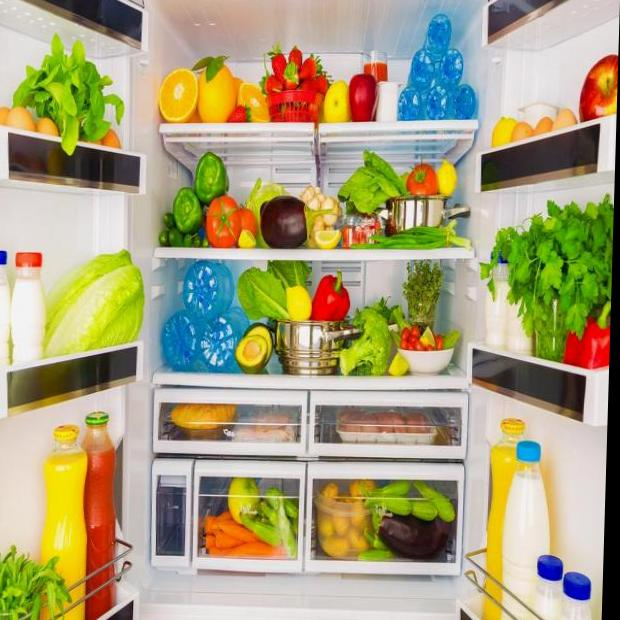apple: (581, 57, 618, 113)
aubergine: (372, 516, 452, 558), (259, 197, 319, 246)
broccoli: (340, 310, 390, 374)
eggs: (0, 103, 36, 134), (553, 111, 578, 127), (512, 121, 533, 138), (535, 117, 553, 132)
green bell pepper: (195, 152, 230, 197), (173, 189, 205, 232)
lemon: (286, 287, 312, 321), (437, 160, 458, 194), (493, 116, 515, 145), (389, 350, 409, 376), (314, 230, 341, 249), (419, 327, 436, 349), (238, 229, 257, 248)
lettuce: (47, 252, 145, 353)
milk: (505, 442, 550, 620), (11, 252, 47, 365), (0, 248, 14, 374)
orange: (196, 58, 236, 123), (160, 69, 199, 119), (239, 81, 271, 122)
parsley: (511, 206, 614, 311)
potato: (331, 512, 352, 538), (349, 480, 375, 498), (348, 528, 367, 550), (321, 484, 338, 505)
red bell pepper: (568, 312, 611, 365), (312, 276, 350, 319)
spring onion: (378, 227, 469, 247)
strawberries: (269, 47, 287, 81), (298, 56, 322, 79), (227, 104, 251, 121), (261, 74, 283, 91), (289, 46, 303, 71), (285, 63, 299, 88), (315, 73, 331, 90)
tomato: (207, 196, 241, 246), (407, 164, 439, 196), (240, 204, 258, 232), (342, 224, 352, 240), (356, 224, 363, 237)
